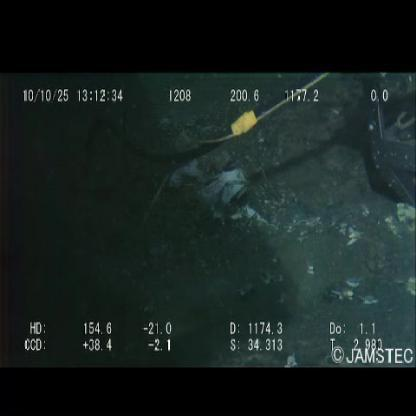Rác: (168, 159, 265, 226)
